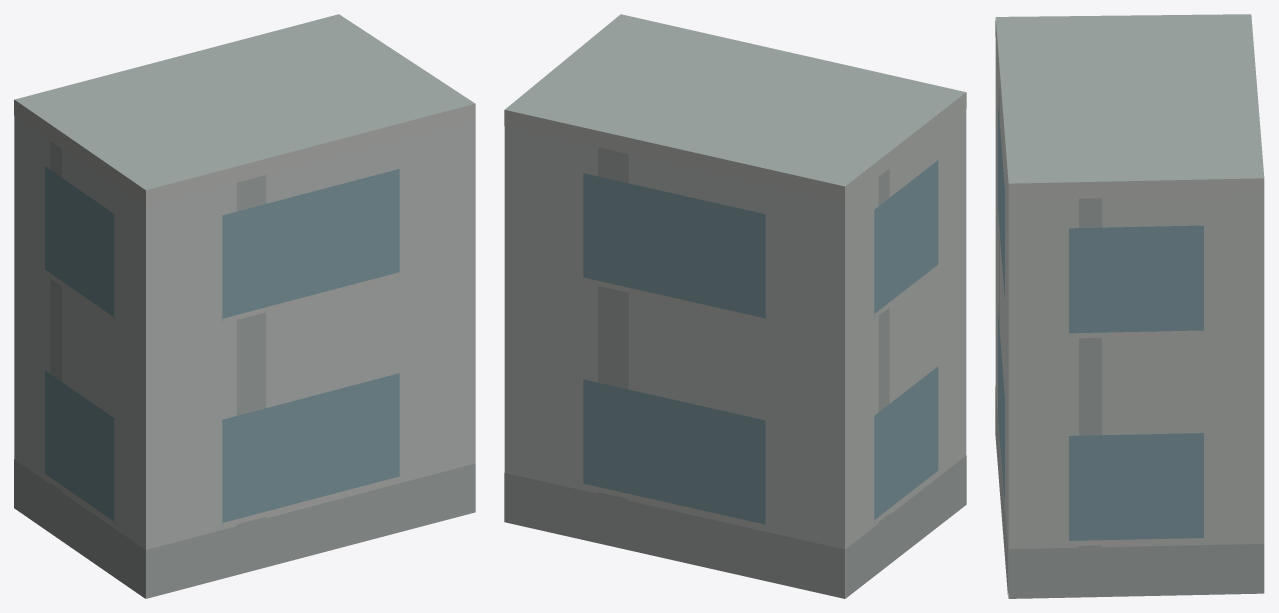
The model's file is survey-upis-32748421.glb.
3 renders of one model, left to right at view 1: azimuth 30°, elevation 25°; view 2: azimuth 150°, elevation 25°; view 3: azimuth 270°, elevation 25°, orthographic.
Parts seen in each view (by area): view 1: survey-upis-32748421.tmp; view 2: survey-upis-32748421.tmp; view 3: survey-upis-32748421.tmp.
Part boxes in pixels (x1=…): survey-upis-32748421.tmp: x1=14, y1=14, x2=475, y2=598; survey-upis-32748421.tmp: x1=504, y1=14, x2=966, y2=598; survey-upis-32748421.tmp: x1=995, y1=14, x2=1264, y2=598.
Bounding box in the file's own units: 5.35 × 6.1 × 3.59.
